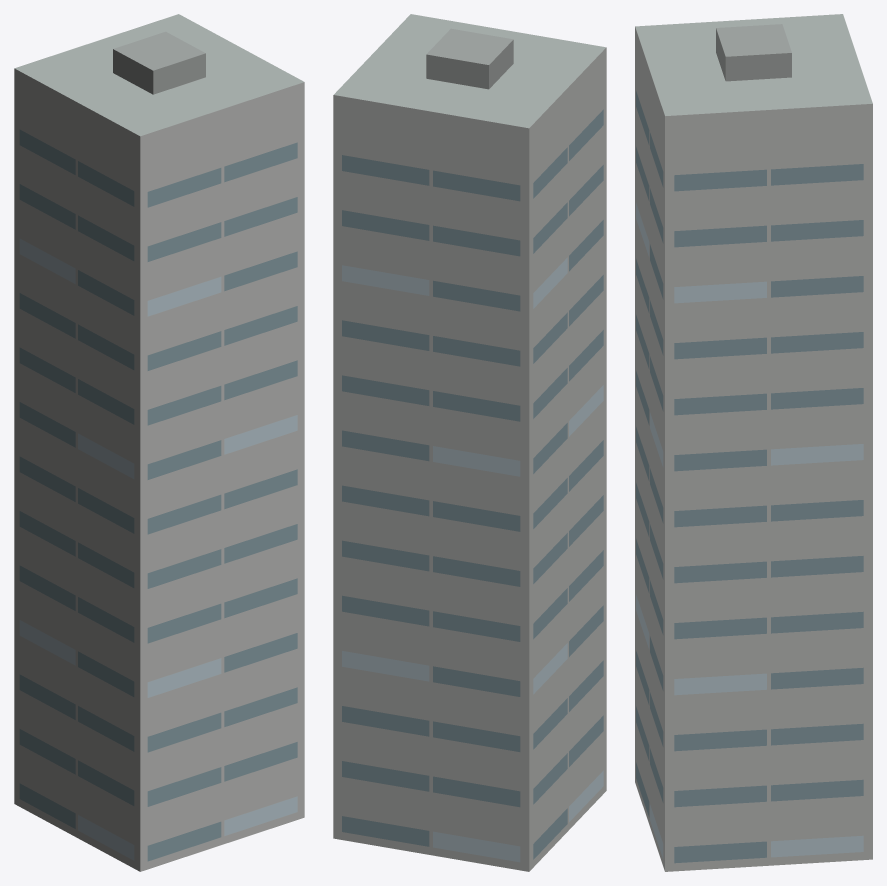
Rendered from fallback-gwanak-dream-town-124.glb.
3 views of the same model, side by side, from view 1: azimuth 30°, elevation 25°; view 2: azimuth 150°, elevation 25°; view 3: azimuth 270°, elevation 25° (orthographic). The views are drawn at different scales.
Visible parts, largest first — view 1: fallback-gwanak-dream-town-124; view 2: fallback-gwanak-dream-town-124; view 3: fallback-gwanak-dream-town-124.
Boxes of the visible parts, <box> form: fallback-gwanak-dream-town-124: <box>14,14,304,871</box>; fallback-gwanak-dream-town-124: <box>333,14,606,871</box>; fallback-gwanak-dream-town-124: <box>635,14,872,871</box>.
Bounding box in the file's own units: 21.34 × 76 × 21.
